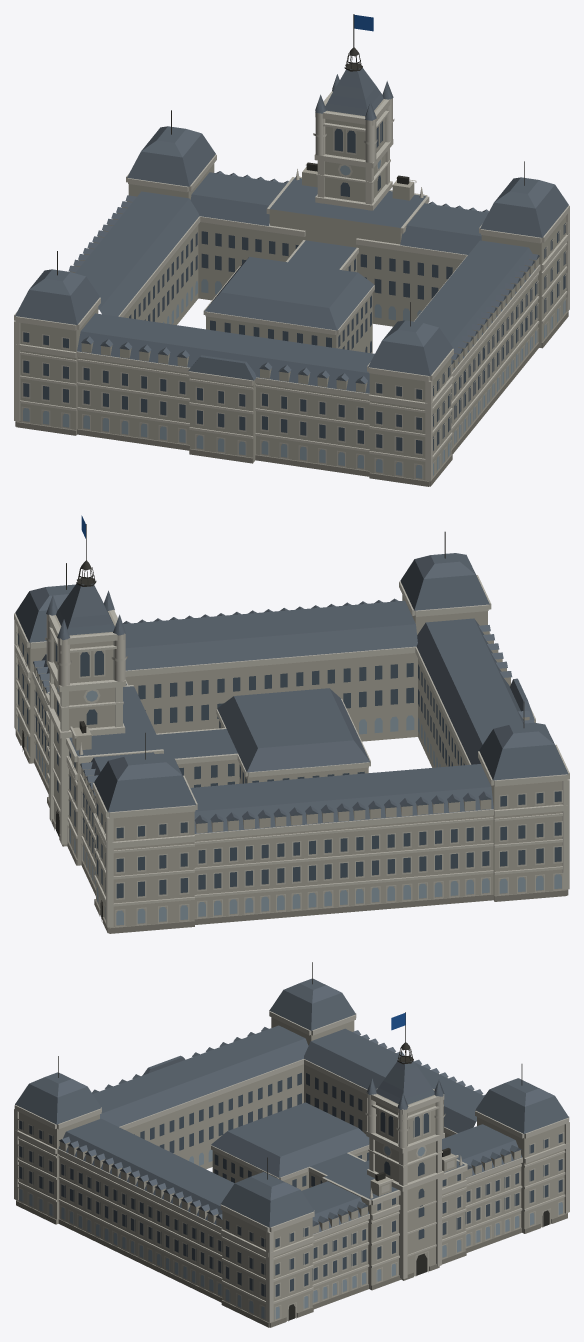
Rendered from hotel-du-parlement-far.glb.
3 renders of one model, top to bottom at view 1: azimuth 30°, elevation 25°; view 2: azimuth 150°, elevation 25°; view 3: azimuth 270°, elevation 25°, orthographic. The views are drawn at different scales.
Parts seen in each view (by area): view 1: hotel-du-parlement-0-roof, hotel-du-parlement-0-stone, hotel-du-parlement-0-trim, hotel-du-parlement-0-glass, hotel-du-parlement-0-glow, hotel-du-parlement-0-stoneDark, hotel-du-parlement-0-iron; view 2: hotel-du-parlement-0-roof, hotel-du-parlement-0-stone, hotel-du-parlement-0-trim, hotel-du-parlement-0-glass, hotel-du-parlement-0-glow, hotel-du-parlement-0-stoneDark, hotel-du-parlement-0-iron; view 3: hotel-du-parlement-0-roof, hotel-du-parlement-0-stone, hotel-du-parlement-0-trim, hotel-du-parlement-0-glass, hotel-du-parlement-0-glow, hotel-du-parlement-0-stoneDark, hotel-du-parlement-0-iron.
Boxes of the visible parts, x1=… form: hotel-du-parlement-0-roof: x1=15, y1=68, x2=568, y2=393; hotel-du-parlement-0-stone: x1=17, y1=99, x2=566, y2=481; hotel-du-parlement-0-trim: x1=14, y1=91, x2=569, y2=480; hotel-du-parlement-0-glass: x1=23, y1=121, x2=565, y2=453; hotel-du-parlement-0-glow: x1=23, y1=160, x2=565, y2=478; hotel-du-parlement-0-stoneDark: x1=15, y1=311, x2=568, y2=486; hotel-du-parlement-0-iron: x1=57, y1=14, x2=524, y2=326; hotel-du-parlement-0-roof: x1=15, y1=553, x2=568, y2=833; hotel-du-parlement-0-stone: x1=17, y1=595, x2=566, y2=927; hotel-du-parlement-0-trim: x1=14, y1=575, x2=569, y2=927; hotel-du-parlement-0-glass: x1=18, y1=633, x2=561, y2=898; hotel-du-parlement-0-glow: x1=18, y1=686, x2=561, y2=925; hotel-du-parlement-0-stoneDark: x1=15, y1=729, x2=568, y2=933; hotel-du-parlement-0-iron: x1=22, y1=524, x2=524, y2=919; hotel-du-parlement-0-roof: x1=15, y1=978, x2=568, y2=1234; hotel-du-parlement-0-stone: x1=18, y1=1017, x2=565, y2=1320; hotel-du-parlement-0-trim: x1=14, y1=1010, x2=569, y2=1322; hotel-du-parlement-0-glass: x1=19, y1=1073, x2=562, y2=1296; hotel-du-parlement-0-glow: x1=19, y1=1146, x2=562, y2=1319; hotel-du-parlement-0-stoneDark: x1=16, y1=1200, x2=567, y2=1327; hotel-du-parlement-0-iron: x1=58, y1=962, x2=549, y2=1320.
Size of the model in its own units: 128 by 64.8 by 128.
